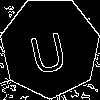U: (25, 22, 70, 76)
